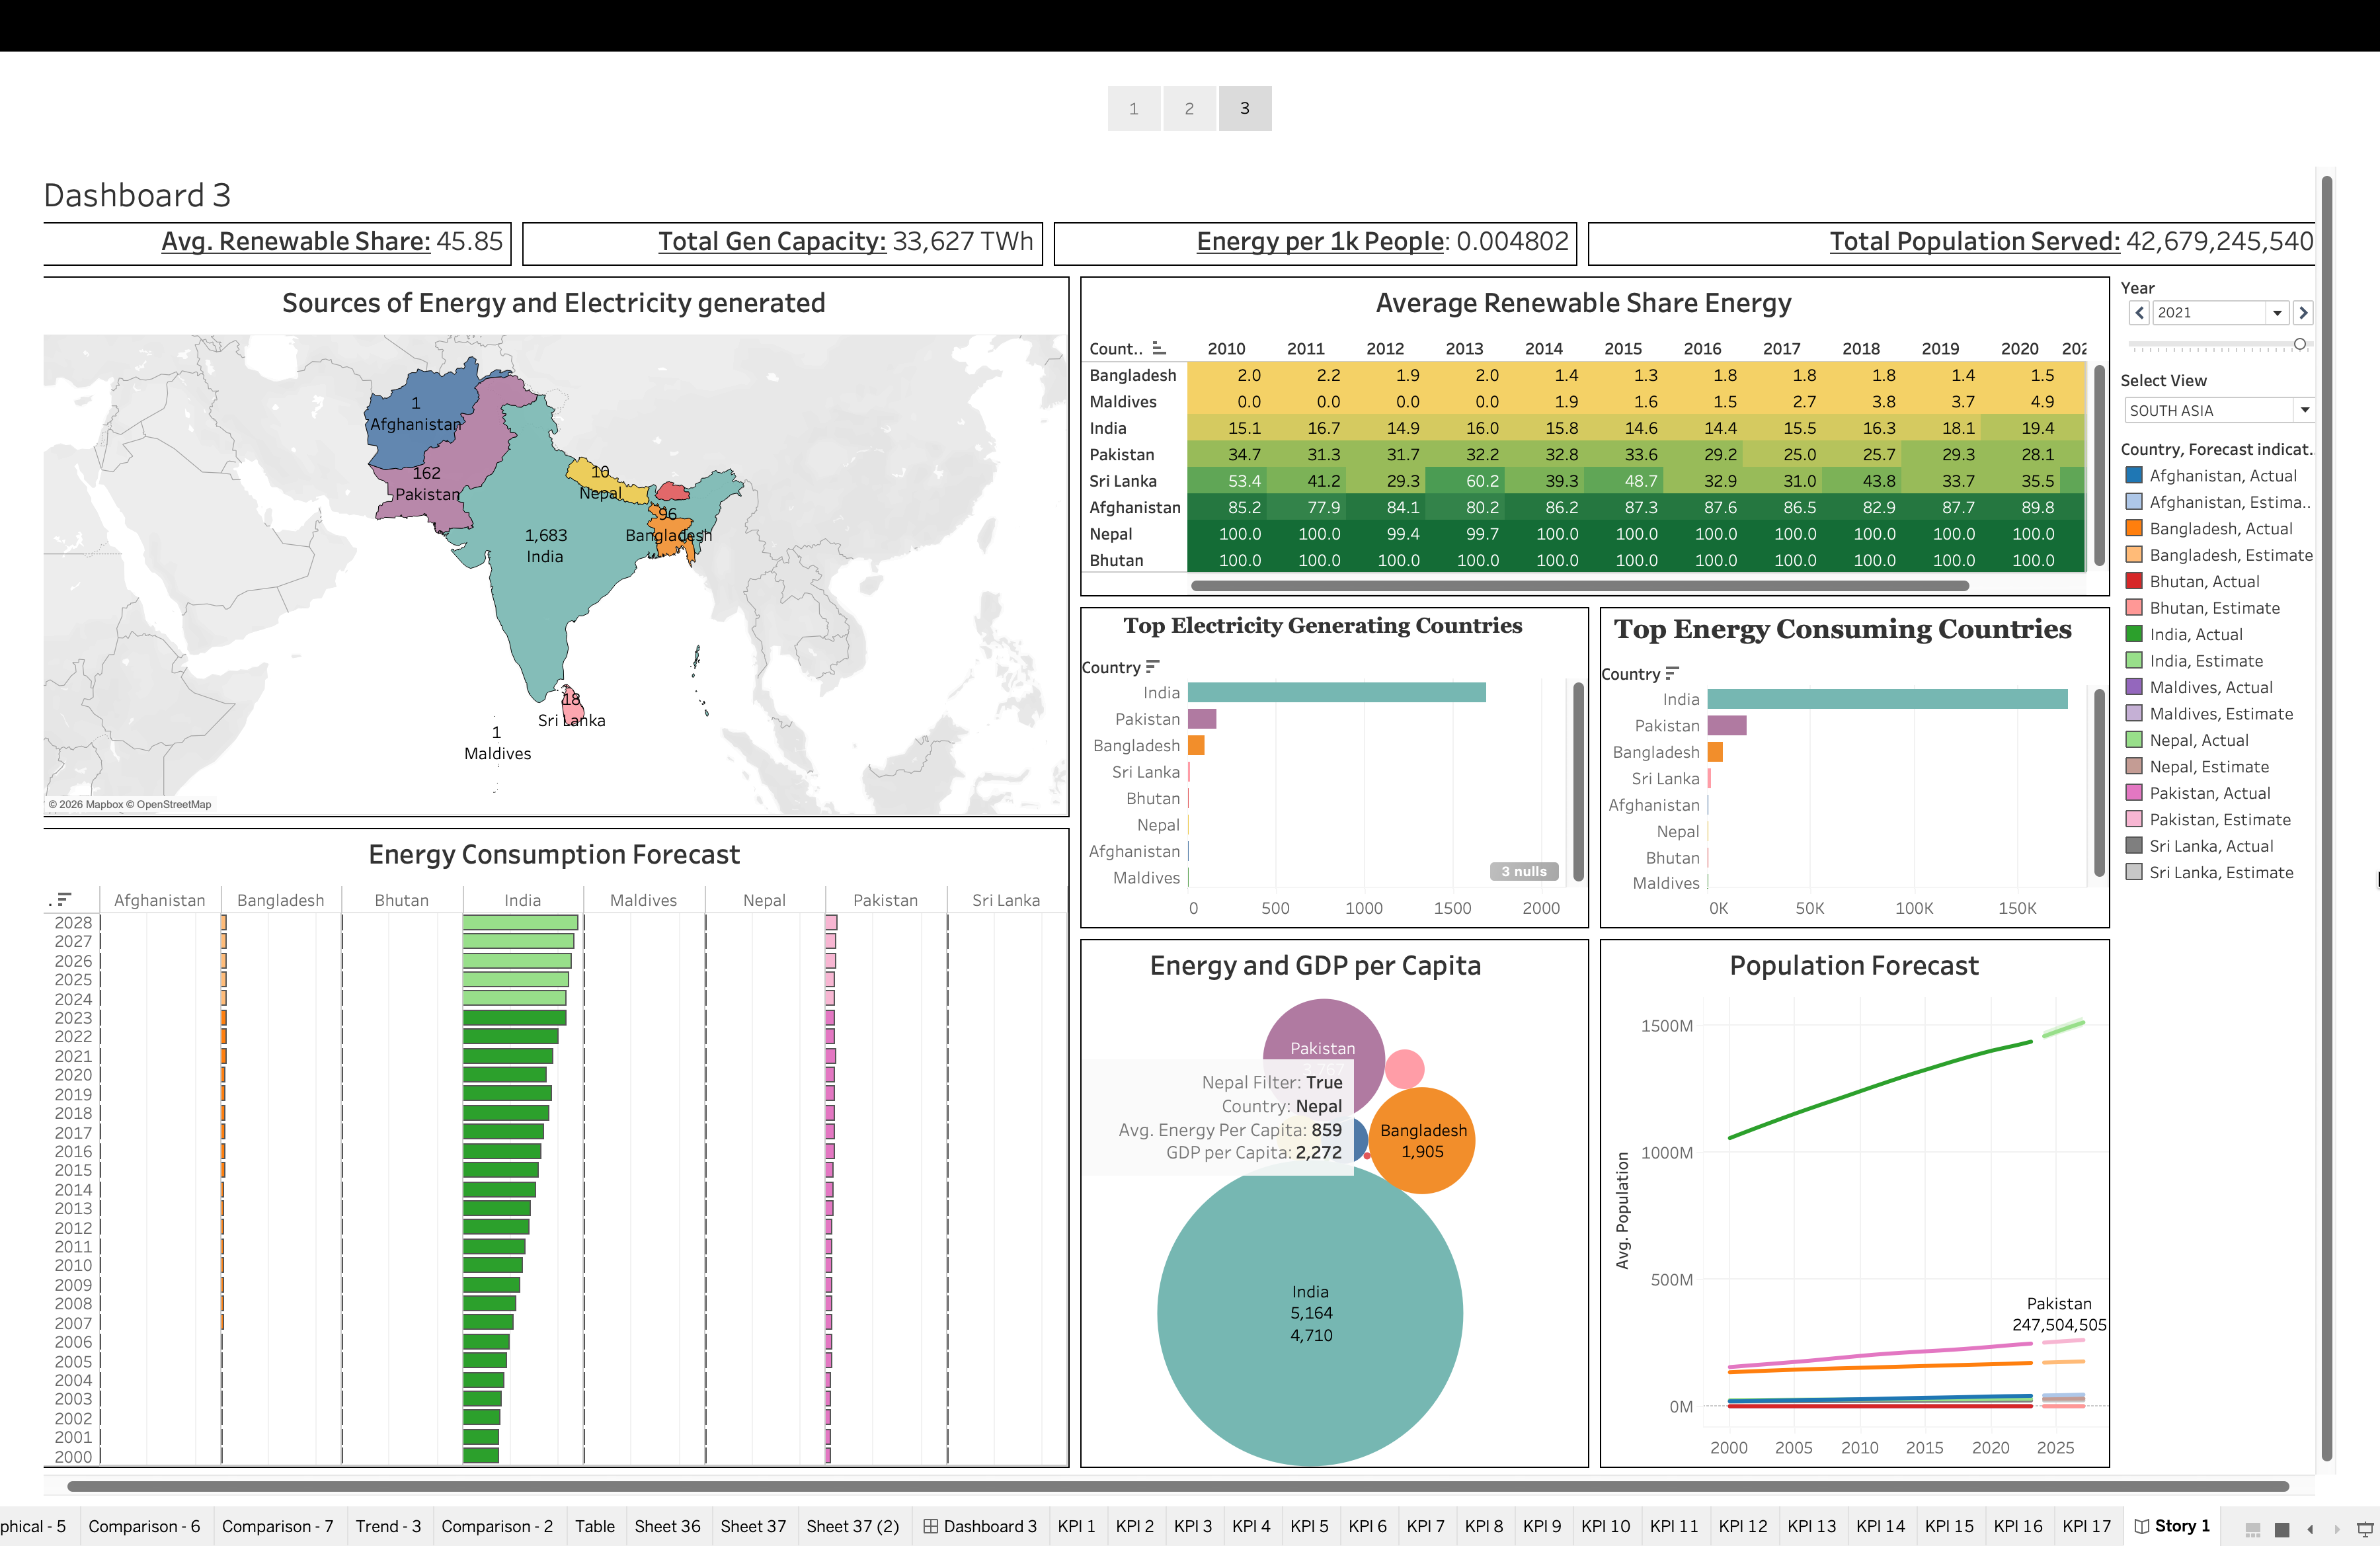

The dashboard page shown, as its layout file describes it:
{"tool":"tableau","page":{"name":"Dashboard 3","canvas":[1750,1000],"ordinal":2},"visuals":[{"type":"title","box":[8,8,1734,34]},{"type":"worksheet","title":"KPI 16","mark":"Automatic","box":[8,42,365,41]},{"type":"worksheet","title":"KPI 14","mark":"Automatic","box":[373,42,402,41]},{"type":"worksheet","title":"KPI 17","mark":"Automatic","box":[775,42,404,41]},{"type":"worksheet","title":"KPI 15","mark":"Automatic","box":[1179,42,563,41]},{"type":"worksheet","title":"Geographical - 5","mark":"Multipolygon","box":[8,83,787,417]},{"type":"worksheet","title":"Comparison - 3","mark":"Square","rows":["country"],"cols":["year"],"box":[795,83,787,250]},{"type":"currpage","title":"Geographical - 5","box":[1582,83,160,70]},{"type":"parameter","param":"[Parameters].[Parameter 5]","box":[1582,153,160,52]},{"type":"legend","title":"Comparison - 2","param":"[federated.0qilly508yxdw615ldf7t1qhfyta].[none:country:nk]\n[federated.0qilly508y","box":[1582,205,160,466]},{"type":"worksheet","title":"Comparison - 6","mark":"Automatic","rows":["country"],"cols":["electricity_generation"],"box":[795,333,393.5,251]},{"type":"worksheet","title":"Comparison - 7","mark":"Automatic","rows":["country"],"cols":["primary_energy_consumption"],"box":[1188.4,333,393.6,251]},{"type":"worksheet","title":"Comparison - 2","mark":"Automatic","rows":["year"],"cols":["country","primary_energy_consumption"],"box":[8,500,787,492]},{"type":"worksheet","title":"Composition - 7","mark":"Circle","box":[795,584,393.5,408]},{"type":"worksheet","title":"Trend - 3","mark":"Automatic","rows":["population"],"cols":["year"],"box":[1188.5,584,393.5,408]}]}

Visuals, with their boxes on the page's 1750x1000 design canvas (x1, y1, x2, y2). These are canvas units, not pixel positions in the 2380x1546 screenshot, which may show the page scaled, cropped or inside an application window:
title: x1=8, y1=8, x2=1742, y2=42
"KPI 16" worksheet: x1=8, y1=42, x2=373, y2=83
"KPI 14" worksheet: x1=373, y1=42, x2=775, y2=83
"KPI 17" worksheet: x1=775, y1=42, x2=1179, y2=83
"KPI 15" worksheet: x1=1179, y1=42, x2=1742, y2=83
"Geographical - 5" worksheet (Multipolygon marks): x1=8, y1=83, x2=795, y2=500
"Comparison - 3" worksheet (Square marks): x1=795, y1=83, x2=1582, y2=333
"Geographical - 5" currpage: x1=1582, y1=83, x2=1742, y2=153
parameter: x1=1582, y1=153, x2=1742, y2=205
"Comparison - 2" legend: x1=1582, y1=205, x2=1742, y2=671
"Comparison - 6" worksheet: x1=795, y1=333, x2=1188, y2=584
"Comparison - 7" worksheet: x1=1188, y1=333, x2=1582, y2=584
"Comparison - 2" worksheet: x1=8, y1=500, x2=795, y2=992
"Composition - 7" worksheet (Circle marks): x1=795, y1=584, x2=1188, y2=992
"Trend - 3" worksheet: x1=1188, y1=584, x2=1582, y2=992
